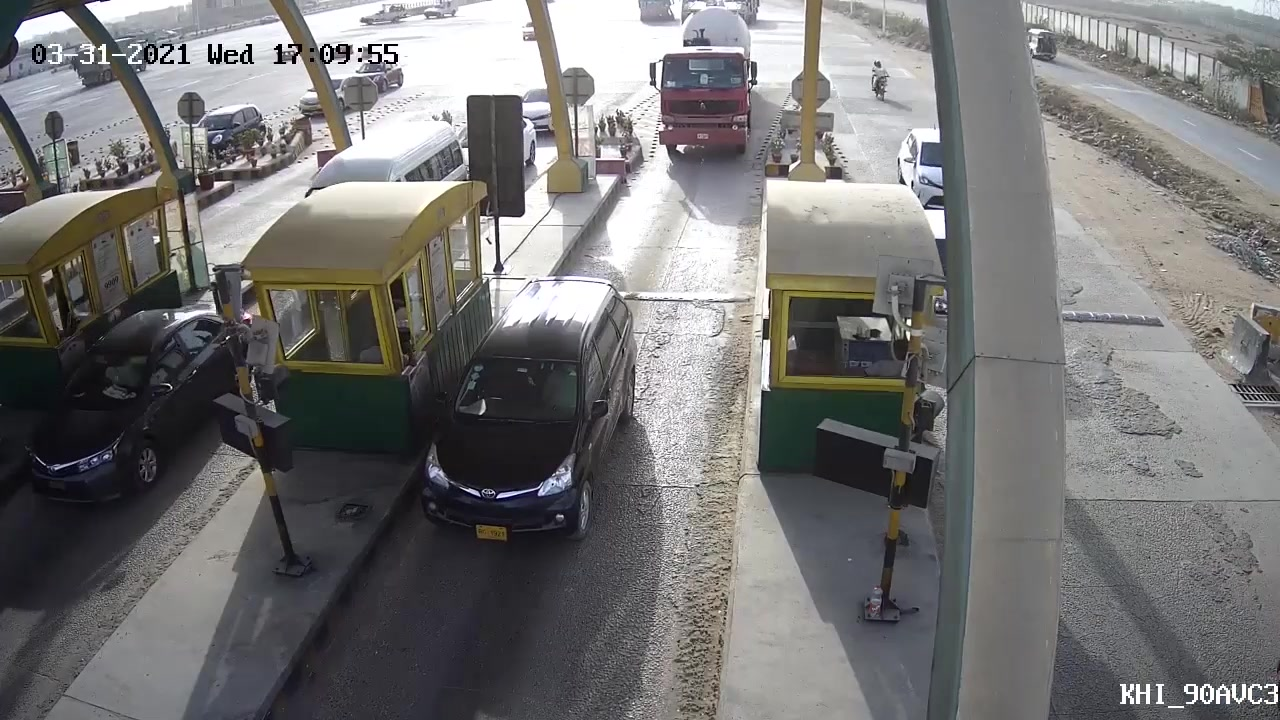F1: (422, 275, 643, 557)
